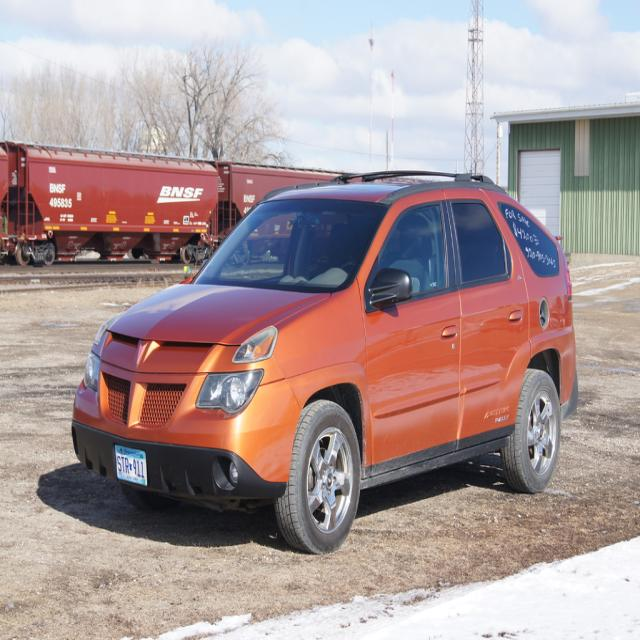car: (68, 174, 568, 554)
